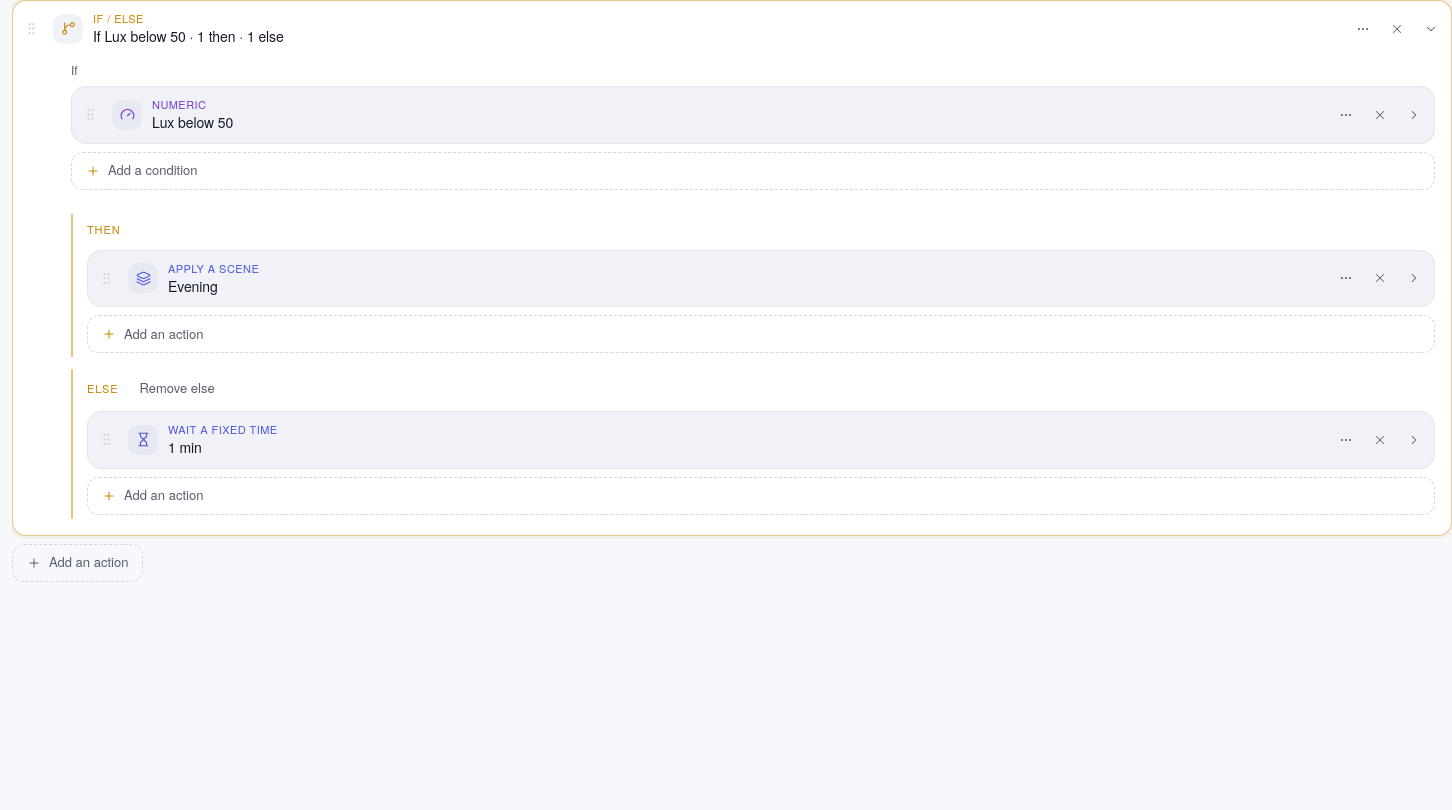
Test: the blocks that hold others › draws its conditions, Then and Else, and takes else away
This screenshot has width=1452, height=810.
Expected: the text "If" is shown, [71,61,78,78]
Expected: the button "Add a condition" is shown, [71,152,1435,190]
What coordinates should you click on to do the following:
click the button "Remove else"
I would click on:
 (177, 388)
Its box is [126,373,228,403].
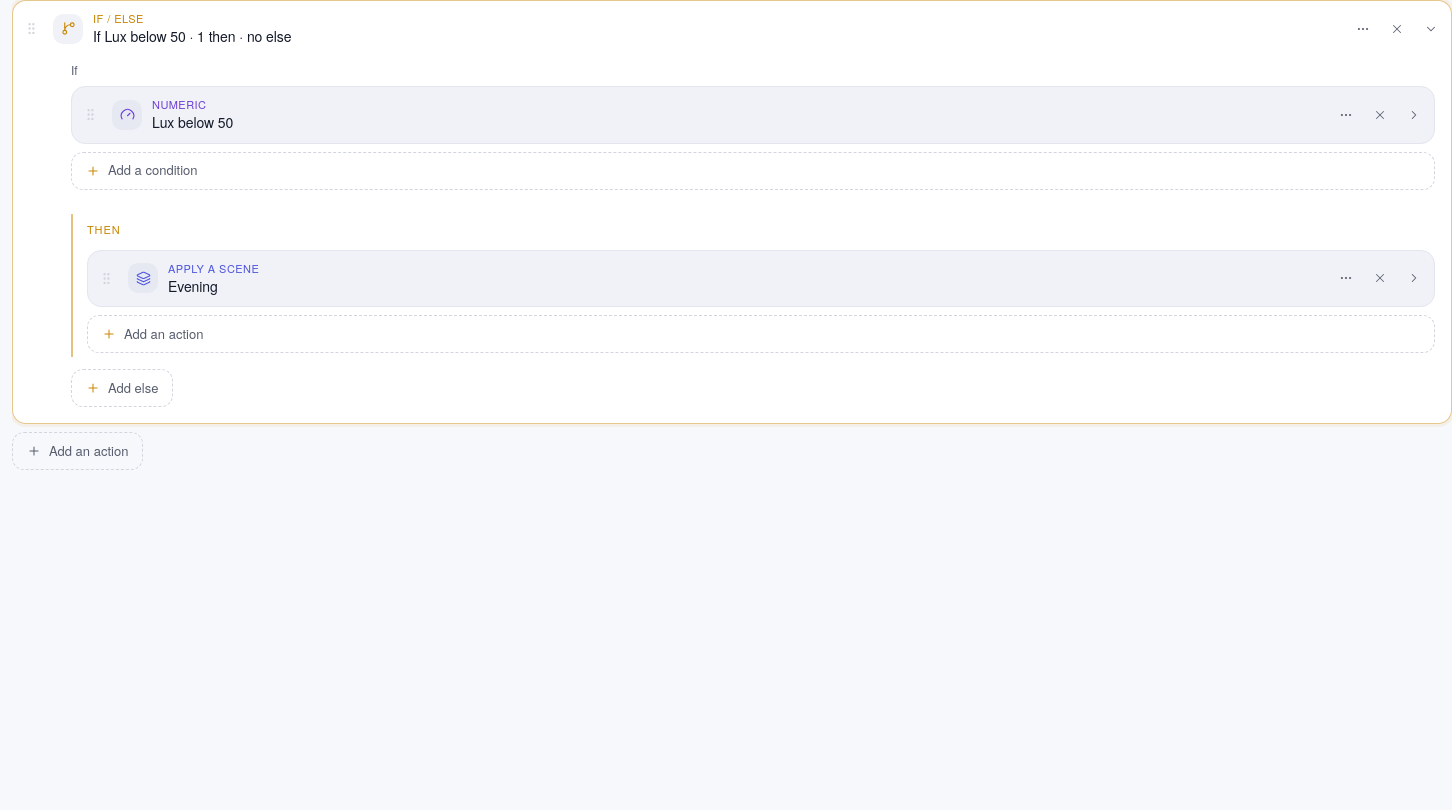
Result: the button "Add else" is shown at [71,369,174,407]
